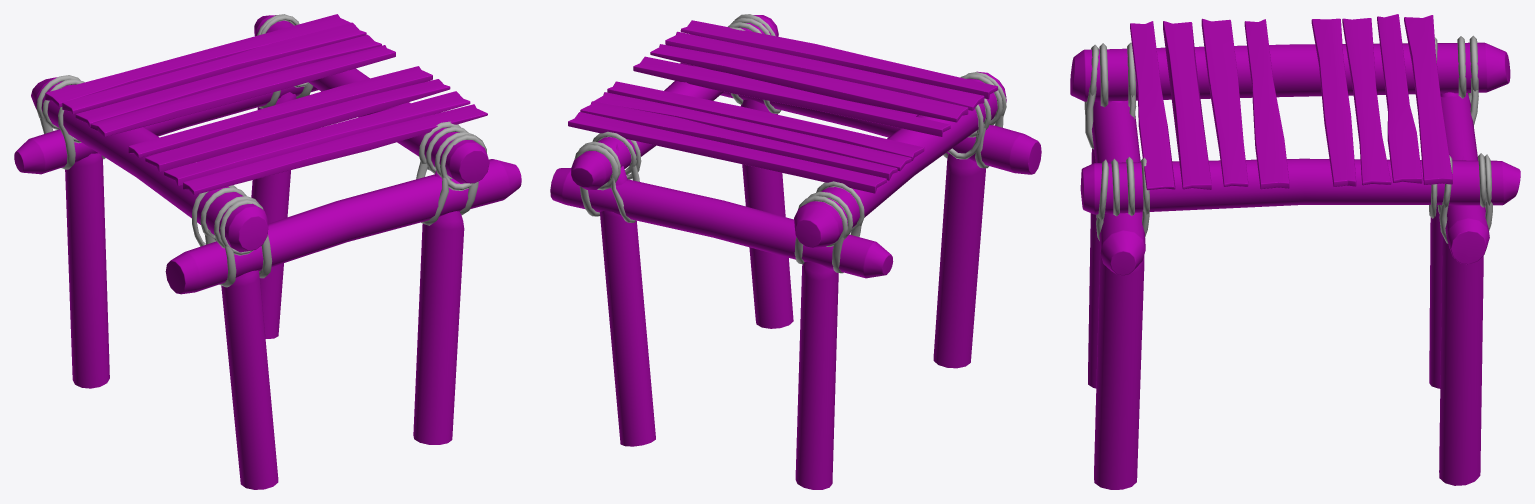
The model's file is Platform_Wood_2.fbx.
The picture shows the model from 3 angles, left to right: view 1: azimuth 30°, elevation 25°; view 2: azimuth 150°, elevation 25°; view 3: azimuth 270°, elevation 25°; orthographic projection. The views are drawn at different scales.
Parts seen in each view (by area): view 1: polySurface24, polySurface25; view 2: polySurface24, polySurface25; view 3: polySurface24, polySurface25.
Boxes of the visible parts, x1,y1,x2,y2 form: polySurface24: [14, 14, 521, 489]; polySurface25: [36, 14, 486, 287]; polySurface24: [550, 15, 1041, 489]; polySurface25: [574, 14, 1006, 273]; polySurface24: [1070, 14, 1520, 489]; polySurface25: [1084, 35, 1492, 243].
Bounding box in the file's own units: 7.8 × 6.53 × 7.78.
